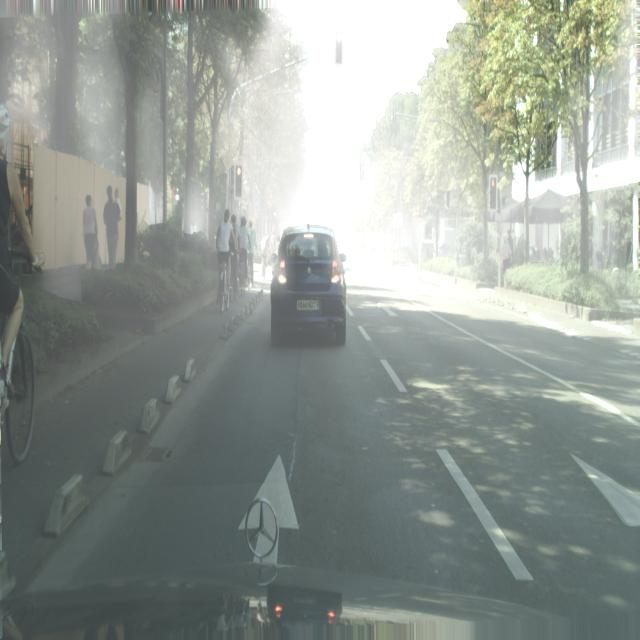car: (0, 100, 40, 467), (215, 212, 237, 311), (237, 215, 248, 304), (246, 219, 255, 286), (260, 229, 271, 277)
person: (103, 186, 121, 271), (82, 193, 98, 271), (500, 232, 512, 288)
truck: (270, 225, 347, 346)
